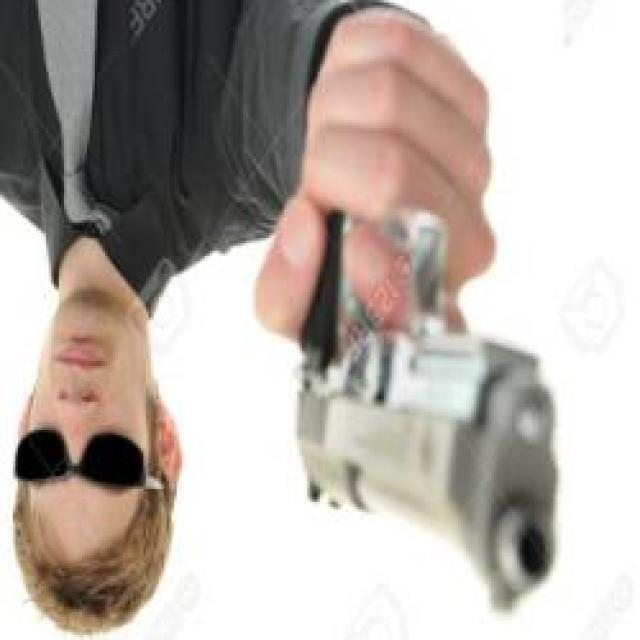pistol: (300, 0, 551, 615)
